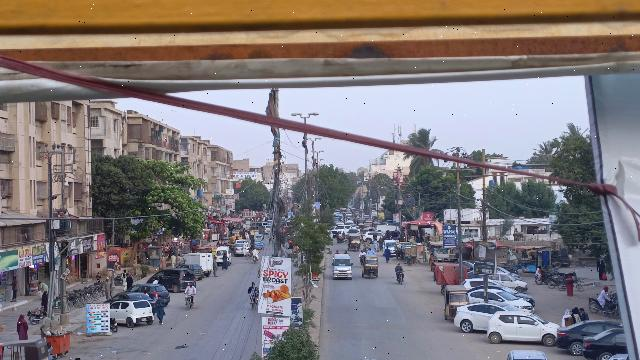Bike: (182, 293, 195, 311), (395, 270, 405, 284), (249, 294, 257, 308)
Car: (485, 309, 559, 345), (555, 320, 611, 355), (454, 302, 514, 334), (108, 298, 153, 329), (584, 326, 624, 360), (148, 266, 197, 292)
Person: (153, 294, 166, 327), (13, 313, 28, 339), (560, 308, 573, 327), (101, 276, 111, 300), (186, 281, 197, 295), (248, 279, 258, 294), (571, 307, 580, 323), (579, 306, 589, 320), (395, 260, 404, 273)
Rickshaw: (440, 283, 469, 321), (361, 254, 380, 280)
Truck: (179, 250, 214, 276)
Van: (329, 253, 354, 281)
